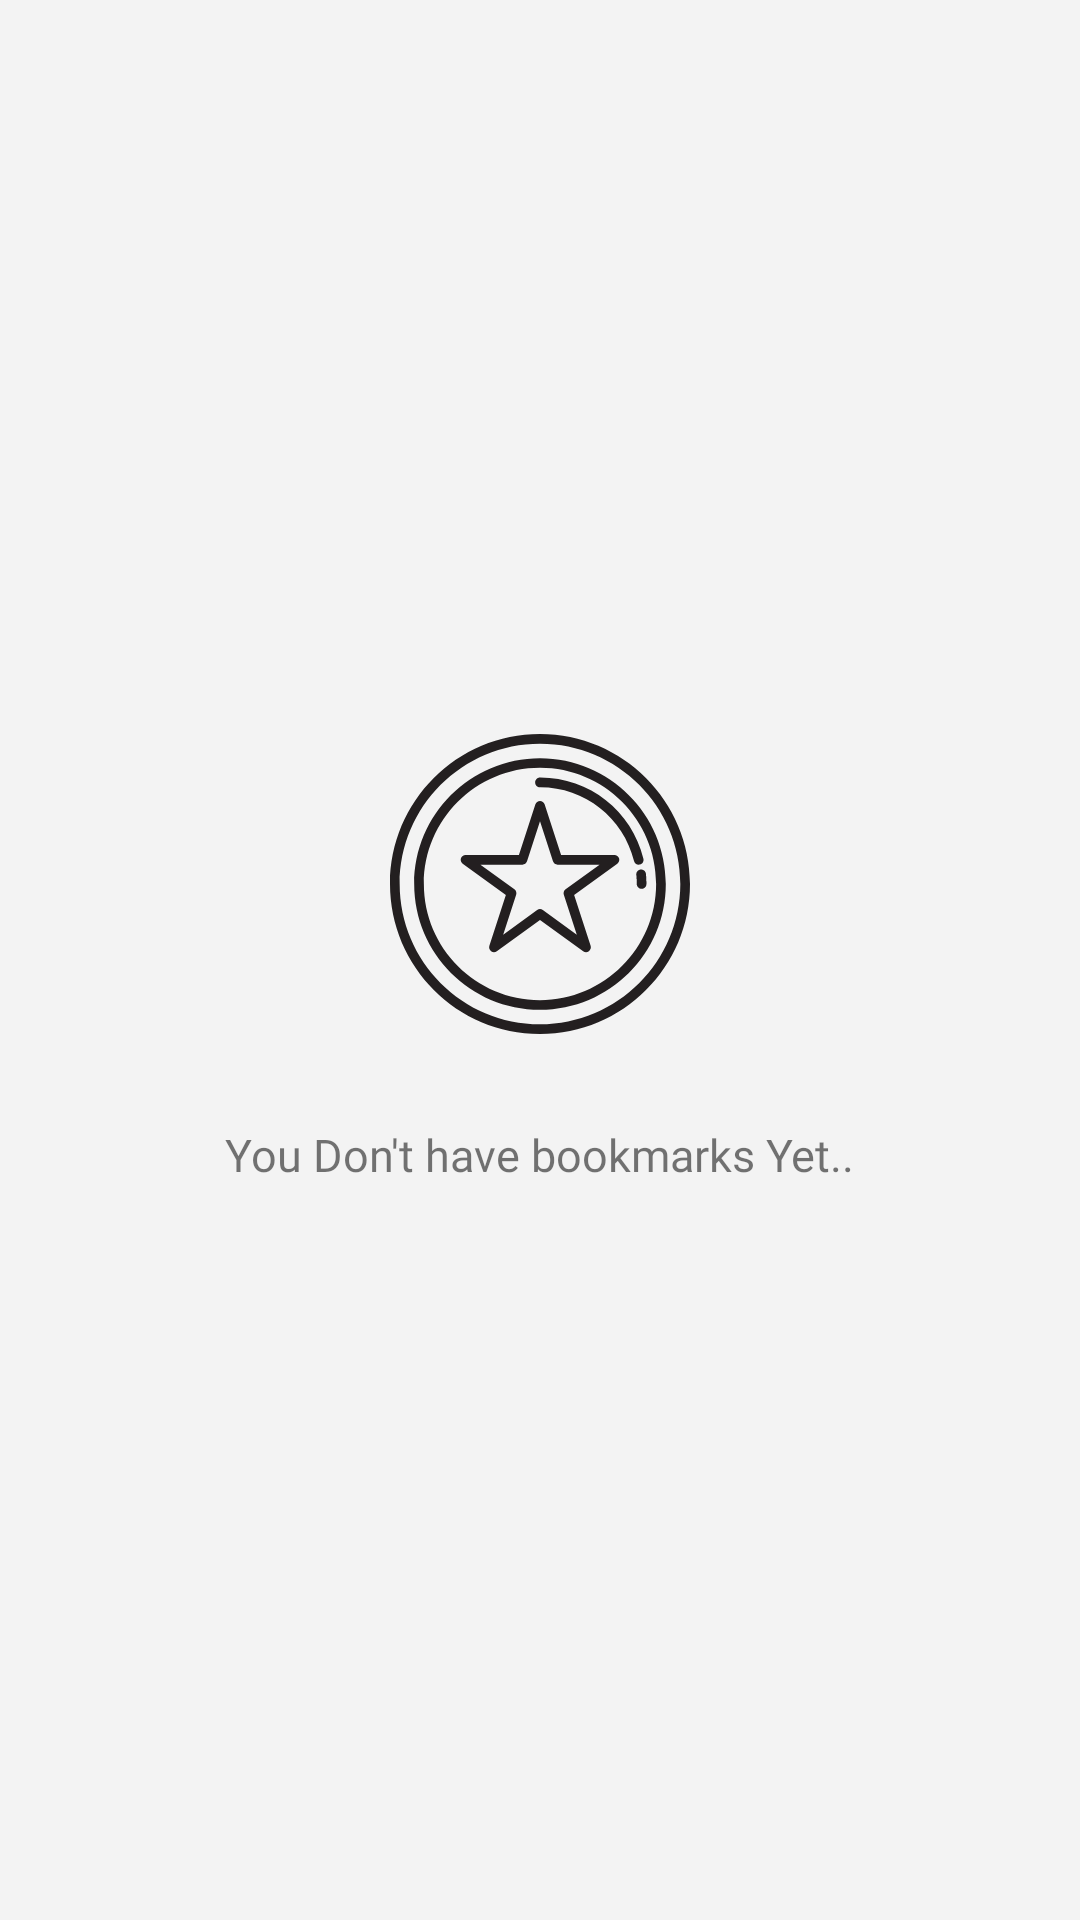

Screen size 1080w x 1920h. Icon name, then its box in pixels as (x1, y1, x2, y2):
popular: (390, 734, 690, 1034)
